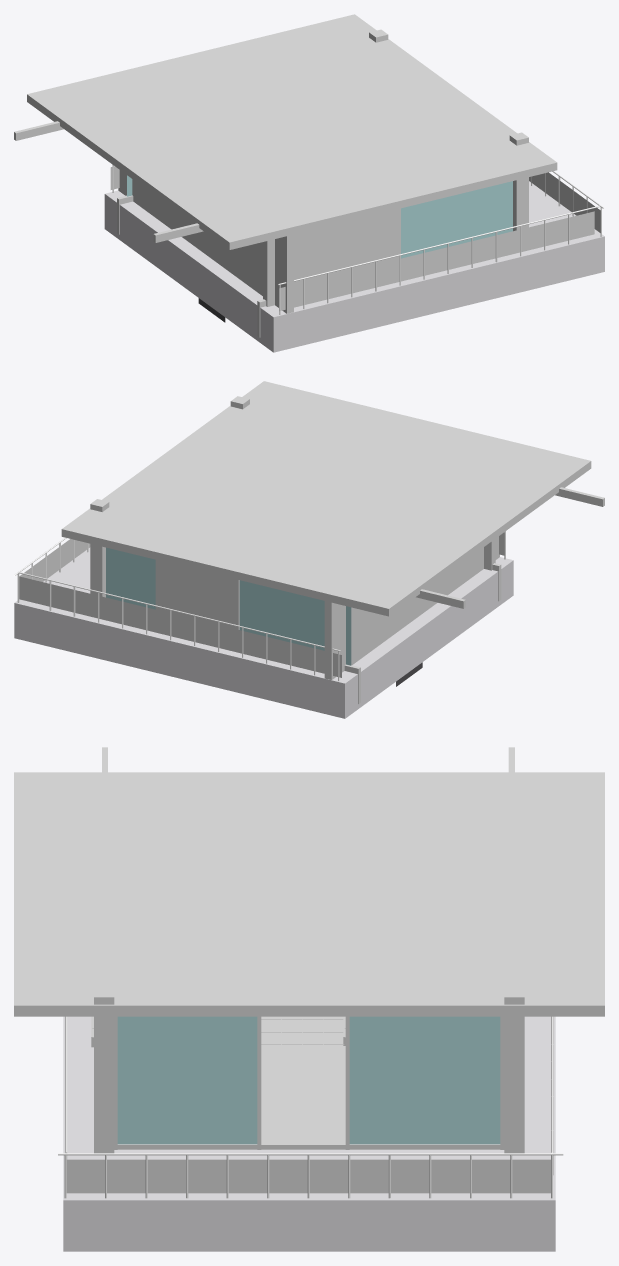
File: apartment.fbx
3 renders of one model, top to bottom at view 1: azimuth 30°, elevation 25°; view 2: azimuth 150°, elevation 25°; view 3: azimuth 270°, elevation 25°, orthographic. The views are drawn at different scales.
Parts seen in each view (by area): view 1: Plane, Plane.004, Plane.011, Plane.007, Plane.052, Plane.002, Plane.053, Plane.029, Plane.006, Cylinder.005, Cylinder.001, Plane.022 (+1 smaller); view 2: Plane, Plane.011, Plane.004, Plane.008, Plane.001, Plane.053, Plane.051, Plane.029, Plane.005, Cylinder.004, Cylinder, Plane.023 (+1 smaller); view 3: Plane, Plane.004, Plane.003, Plane.014, Plane.029, Plane.011, Plane.010, Plane.005, Plane.006, Plane.017, Cylinder.007, Cylinder.006 (+3 smaller).
Part boxes in pixels (x1,y1,x2,y2): Plane: (27, 14, 557, 249); Plane.004: (201, 181, 604, 352); Plane.011: (104, 182, 604, 352); Plane.007: (279, 211, 594, 310); Plane.052: (263, 208, 400, 306); Plane.002: (401, 181, 512, 258); Plane.053: (118, 170, 293, 313); Plane.029: (529, 172, 600, 232); Plane.006: (509, 132, 528, 231); Cylinder.005: (279, 214, 569, 314); Cylinder.001: (278, 205, 600, 285); Plane.022: (153, 223, 203, 242); Plane: (61, 381, 591, 616); Plane.011: (14, 548, 513, 718); Plane.004: (14, 547, 512, 718); Plane.008: (19, 576, 341, 677); Plane.001: (106, 547, 351, 665); Plane.053: (324, 536, 499, 679); Plane.051: (155, 560, 239, 629); Plane.029: (19, 539, 90, 581); Plane.005: (90, 499, 109, 597); Cylinder.004: (49, 580, 339, 681); Cylinder: (18, 572, 340, 651); Plane.023: (416, 589, 465, 608); Plane: (14, 772, 604, 1016); Plane.004: (63, 1016, 555, 1251); Plane.003: (349, 1016, 500, 1144); Plane.014: (117, 1016, 257, 1144); Plane.029: (66, 1159, 550, 1193); Plane.011: (63, 1016, 555, 1200); Plane.010: (117, 1016, 500, 1149); Plane.005: (504, 988, 524, 1153); Plane.006: (94, 988, 114, 1153); Plane.017: (114, 1143, 504, 1148); Cylinder.007: (64, 1155, 552, 1198); Cylinder.006: (58, 1153, 563, 1155).
Bounding box in the file's own units: 1790 × 663 × 1440.
